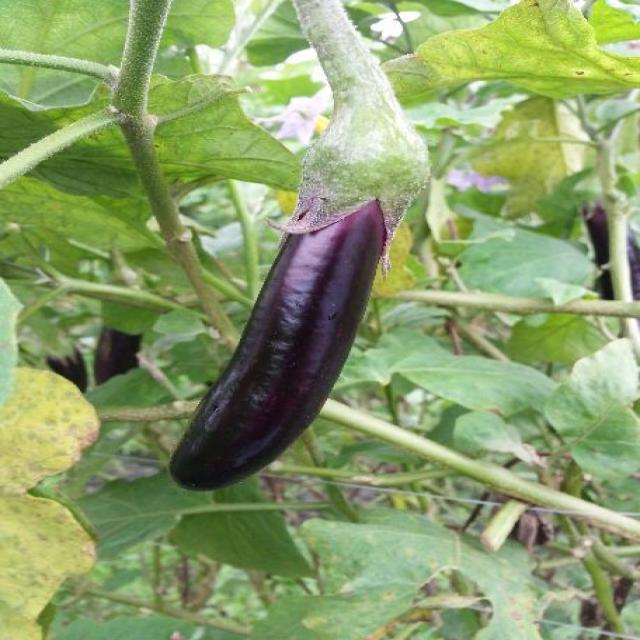eggplant: (156, 102, 433, 498)
